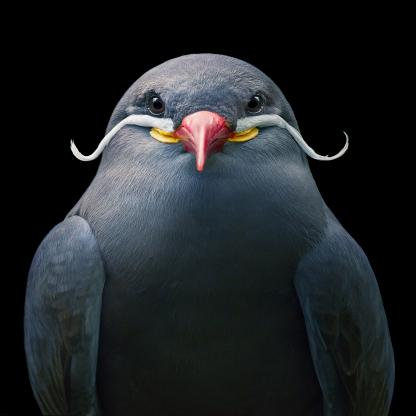bird: (36, 56, 400, 416)
